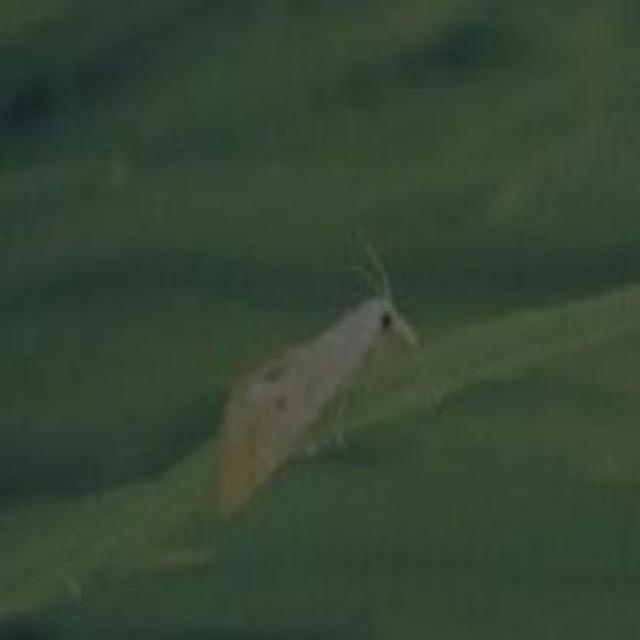stem-borer: (209, 229, 423, 528)
